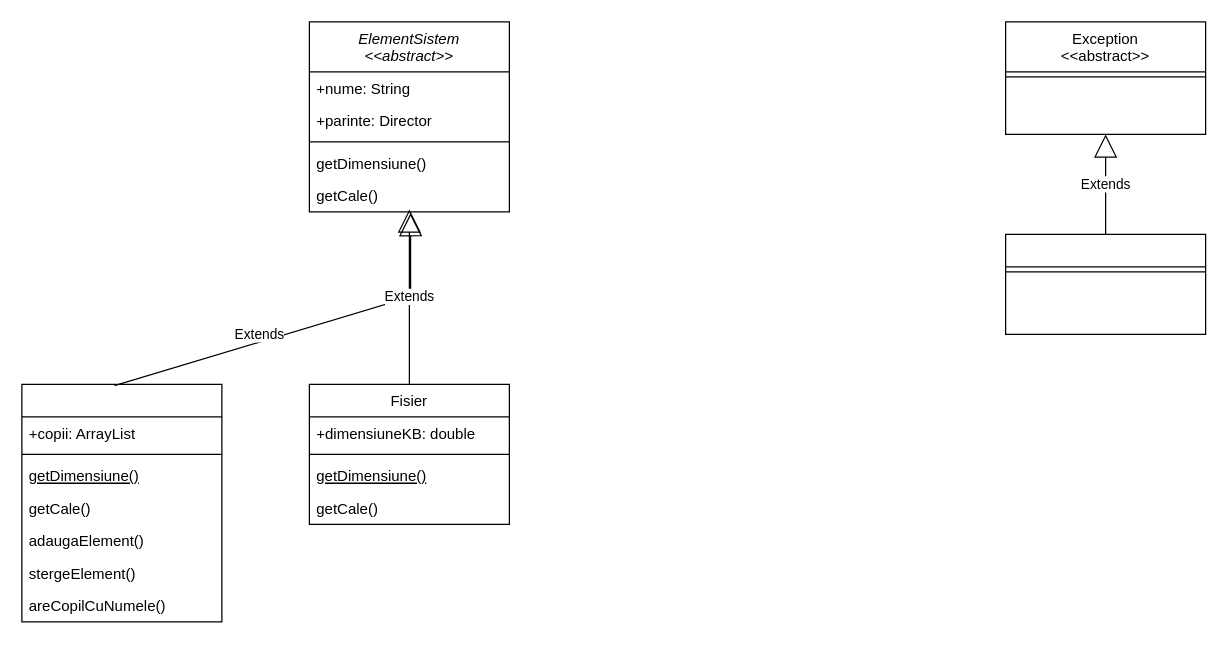
Some shapes in this 1228 by 648 pixel diagram are drawn without their labels. Here are the shapes that lost their labels. From the top down, the box of each, then its label:
(1004, 233, 1206, 334): ExceptieElementDuplicat
(21, 383, 222, 622): Director
